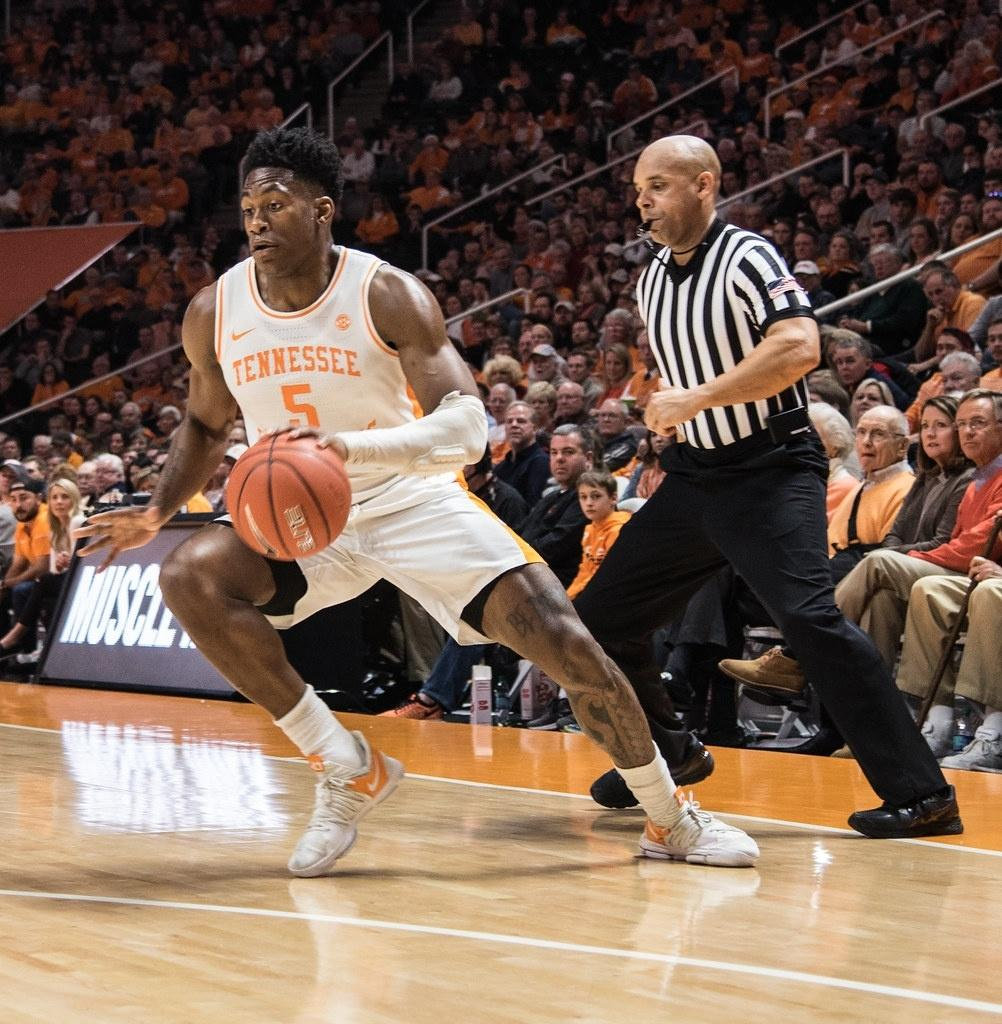basketball-player: (77, 146, 769, 899)
